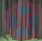No Stopping: (3, 4, 41, 39)
